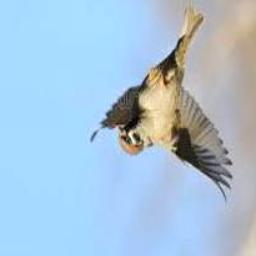Sparrow: (90, 6, 231, 203)
